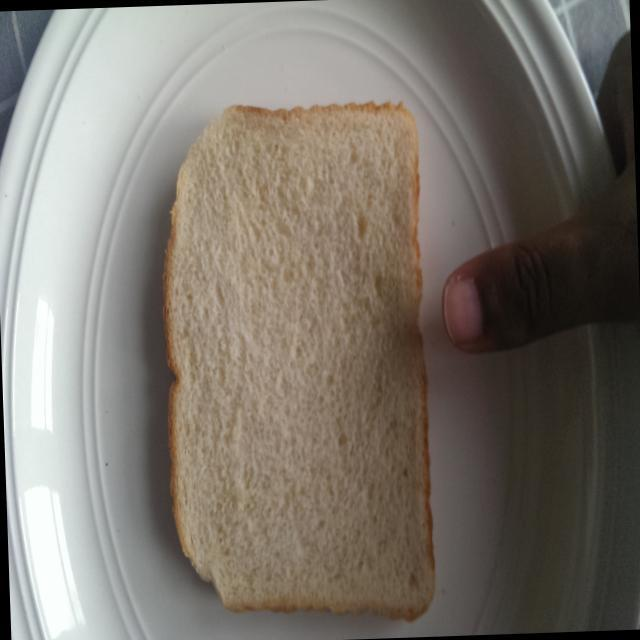Bread: (148, 88, 446, 634)
Finger: (431, 214, 564, 370)
